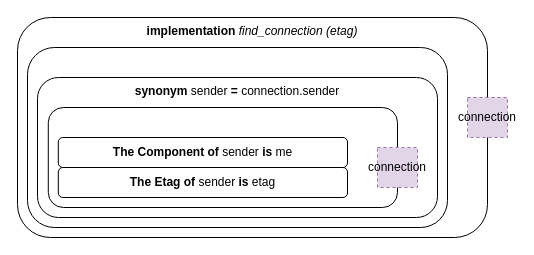
Some shapes in this 534 by 255 pixel diagram are drawn without their labels. Here are the shapes that lost their labels. From the top down, the box of each, then its label:
(47, 106, 398, 208): When All
(26, 46, 448, 228): for every connection in me.connections
